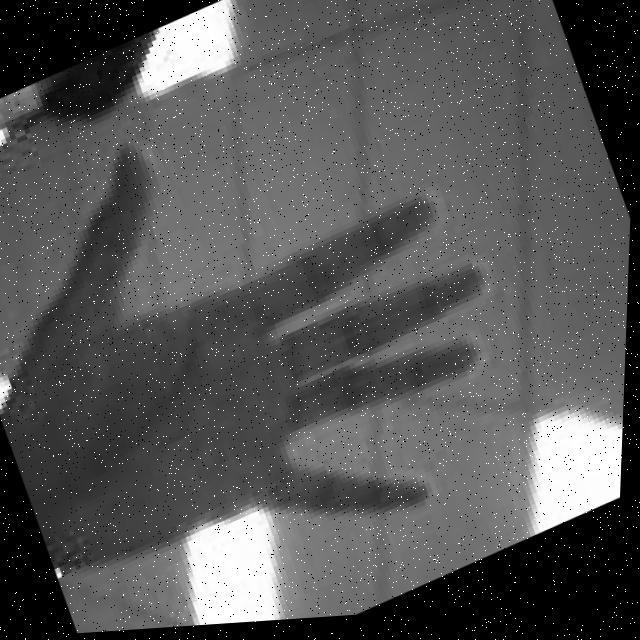no-gloves: (0, 15, 576, 640)
